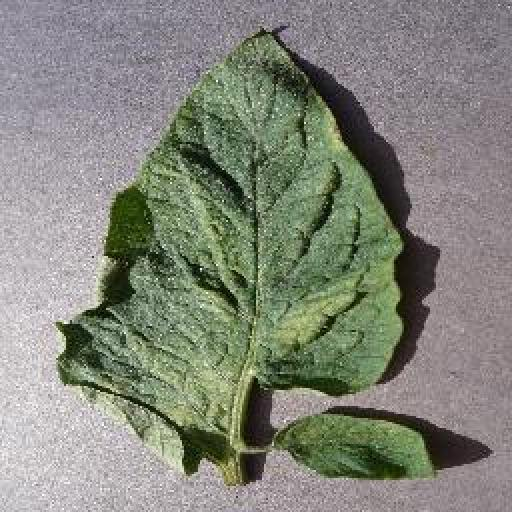disease_tomato: (59, 28, 401, 476)
